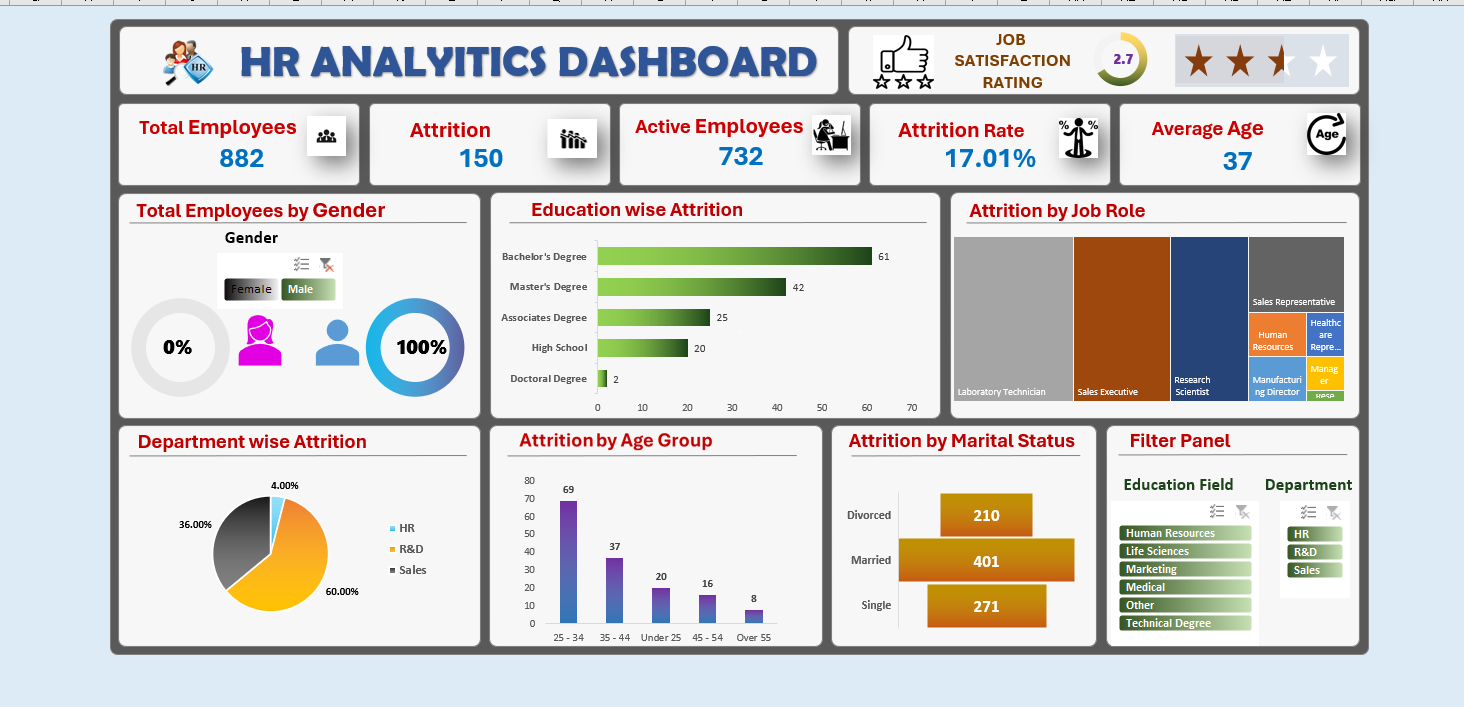

The page's visual inventory and layout, read from the dashboard file:
{"tool":"powerbi","page":{"name":"Page 1","canvas":[1280,720],"ordinal":0},"visuals":[{"type":"card","title":"Overall Employees","fields":{"Values":["Sum(HR data.Employee Count)"]},"box":[12.9,62.9,240,110],"z":0},{"type":"card","title":"Attrition","fields":{"Values":["Sum(HR data.Attrition Count)"]},"box":[267.1,62.9,240,110],"z":1000},{"type":"card","title":"Attrition Rate","fields":{"Values":["HR data.Attrition Rate"]},"box":[518.6,62.9,241.4,110],"z":2000},{"type":"card","title":"Active Employees","fields":{"Values":["HR data.Active Employees"]},"box":[777.1,64.3,240,110],"z":3000},{"type":"card","title":"Average Age","fields":{"Values":["Avg(HR data.Age)"]},"box":[1032.9,62.9,238.6,110],"z":4000},{"type":"pieChart","title":"Department wise Attrition","fields":{"Category":["HR data.Department"],"Y":["Sum(HR data.Attrition Count)"]},"box":[14.3,188.6,387.1,304.3],"z":5000},{"type":"columnChart","title":"No of Employee by Age Group","fields":{"Category":["HR data.CF_age band"],"Y":["Sum(HR data.Employee Count)"],"Series":["HR data.Gender"]},"box":[417.1,188.6,388.6,304.3],"z":6000},{"type":"pivotTable","title":"Job Satisfaction Rating","fields":{"Rows":["HR data.Job Role"],"Columns":["HR data.Job Satisfaction"],"Values":["Sum(HR data.Employee Count)"]},"box":[838.6,188.6,432.9,304.3],"z":7000},{"type":"barChart","title":" Education Field wise Attrition","fields":{"Category":["HR data.Education Field"],"Y":["Sum(HR data.Attrition Count)"]},"box":[14.8,505.4,386.8,204.8],"z":8000},{"type":"donutChart","title":"Under 25","fields":{"Category":["HR data.Gender"],"Y":["Sum(HR data.Attrition Count)"],"Series":["HR data.CF_age band"]},"box":[417.8,539.1,170,171.2],"z":9000},{"type":"textbox","title":"Attrition Rate by Different Age Groups ","box":[417.8,505.4,853.1,24.3],"z":10000},{"type":"donutChart","title":"25 - 34","fields":{"Category":["HR data.Gender"],"Y":["Sum(HR data.Attrition Count)"],"Series":["HR data.CF_age band"]},"box":[587.6,539.1,171.2,171.2],"z":11000},{"type":"donutChart","title":"35- 44","fields":{"Category":["HR data.Gender"],"Y":["Sum(HR data.Attrition Count)"],"Series":["HR data.CF_age band"]},"box":[758.7,539.1,171.2,171.2],"z":12000},{"type":"donutChart","title":"45 - 54","fields":{"Category":["HR data.Gender"],"Y":["Sum(HR data.Attrition Count)"],"Series":["HR data.CF_age band"]},"box":[931.2,539.1,171.2,171.2],"z":13000},{"type":"donutChart","title":"Over 55","fields":{"Category":["HR data.Gender"],"Y":["Sum(HR data.Attrition Count)"],"Series":["HR data.CF_age band"]},"box":[1101,539.1,171.2,171.2],"z":14000},{"type":"card","fields":{"Values":["Sum(HR data.Attrition Count)"]},"box":[481.1,625.3,41.8,31],"z":15000},{"type":"card","fields":{"Values":["Sum(HR data.Attrition Count)"]},"box":[645.5,625.3,56.6,31],"z":16000},{"type":"card","fields":{"Values":["Sum(HR data.Attrition Count)"]},"box":[824.8,625.3,41.8,31],"z":17000},{"type":"card","fields":{"Values":["Sum(HR data.Attrition Count)"]},"box":[995.9,625.3,41.8,31],"z":18000},{"type":"card","fields":{"Values":["Sum(HR data.Attrition Count)"]},"box":[1161.7,625.3,48.5,31],"z":19000},{"type":"textbox","title":"HR ANALYTICS DASHBOARD","box":[14.8,13.5,466.3,39.1],"z":20000},{"type":"slicer","fields":{"Values":["HR data.Education"]},"box":[493.2,13.5,754.7,39.1],"z":21000}]}

Visuals, with their boxes on the page's 1280x720 design canvas (x1, y1, x2, y2). These are canvas units, not pixel positions in the 1464x707 screenshot, which may show the page scaled, cropped or inside an application window:
"Overall Employees" card: (left=13, top=63, right=253, bottom=173)
"Attrition" card: (left=267, top=63, right=507, bottom=173)
"Attrition Rate" card: (left=519, top=63, right=760, bottom=173)
"Active Employees" card: (left=777, top=64, right=1017, bottom=174)
"Average Age" card: (left=1033, top=63, right=1272, bottom=173)
"Department wise Attrition" pieChart: (left=14, top=189, right=401, bottom=493)
"No of Employee by Age Group" columnChart: (left=417, top=189, right=806, bottom=493)
"Job Satisfaction Rating" pivotTable: (left=839, top=189, right=1272, bottom=493)
" Education Field wise Attrition" barChart: (left=15, top=505, right=402, bottom=710)
"Under 25" donutChart: (left=418, top=539, right=588, bottom=710)
"Attrition Rate by Different Age Groups " textbox: (left=418, top=505, right=1271, bottom=530)
"25 - 34" donutChart: (left=588, top=539, right=759, bottom=710)
"35- 44" donutChart: (left=759, top=539, right=930, bottom=710)
"45 - 54" donutChart: (left=931, top=539, right=1102, bottom=710)
"Over 55" donutChart: (left=1101, top=539, right=1272, bottom=710)
card - Sum(HR data.Attrition Count): (left=481, top=625, right=523, bottom=656)
card - Sum(HR data.Attrition Count): (left=646, top=625, right=702, bottom=656)
card - Sum(HR data.Attrition Count): (left=825, top=625, right=867, bottom=656)
card - Sum(HR data.Attrition Count): (left=996, top=625, right=1038, bottom=656)
card - Sum(HR data.Attrition Count): (left=1162, top=625, right=1210, bottom=656)
"HR ANALYTICS DASHBOARD" textbox: (left=15, top=14, right=481, bottom=53)
slicer - HR data.Education: (left=493, top=14, right=1248, bottom=53)
